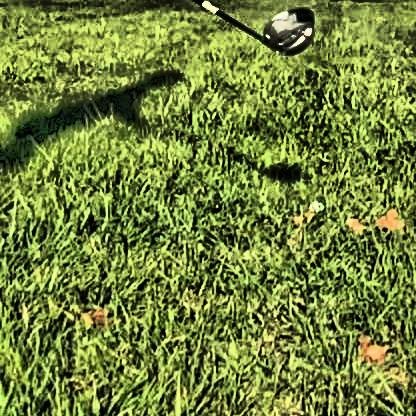golfball: (305, 196, 322, 210)
